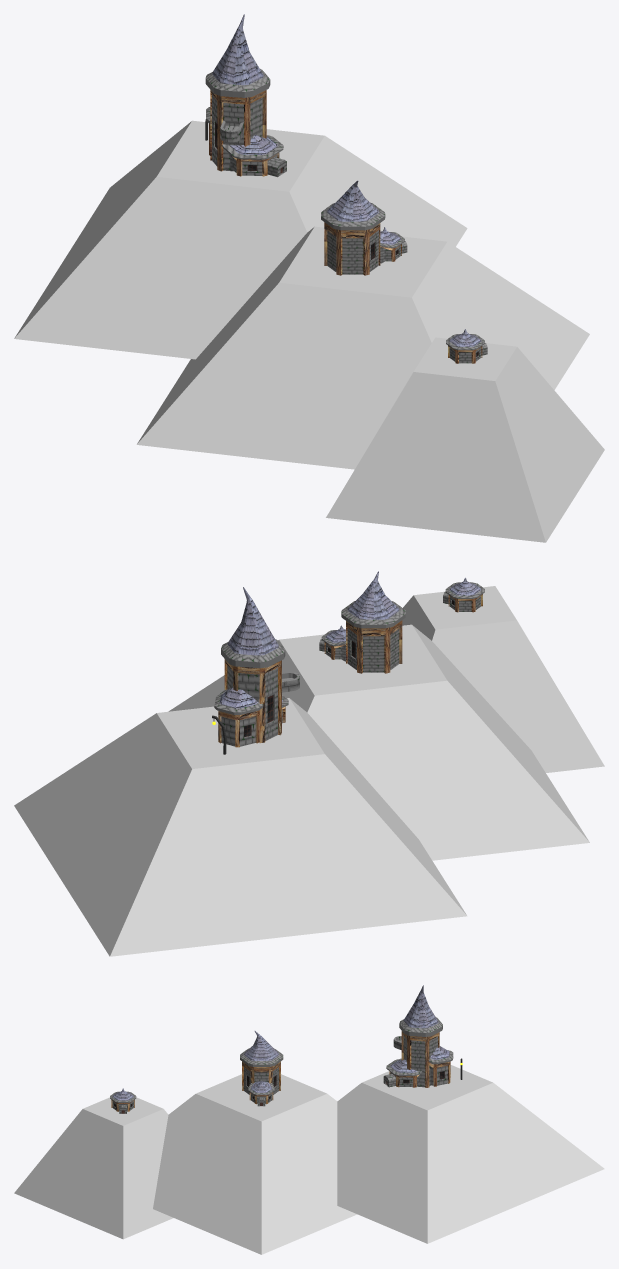
Rendered from moredetail2ndhouse.fbx.
3 views of the same model, one above another, from view 1: azimuth 30°, elevation 25°; view 2: azimuth 150°, elevation 25°; view 3: azimuth 270°, elevation 25° (orthographic). The views are drawn at different scales.
Visible parts, largest first — view 1: Cone.001, Cone.002, Cone, Cylinder.004, Cylinder.002, Cylinder.003, Cylinder, Cylinder.001; view 2: Cone.002, Cone.001, Cone, Cylinder.004, Cylinder.002, Cylinder.005, Cylinder, Cylinder.001; view 3: Cone.002, Cone.001, Cone, Cylinder.004, Cylinder.002, Cylinder.005, Cylinder.003, Cylinder.001, Cylinder.
Boxes of the visible parts, x1,y1,x2,y2 form: Cone.001: [136, 226, 589, 469]; Cone.002: [14, 120, 467, 359]; Cone: [326, 337, 604, 542]; Cylinder.004: [205, 14, 270, 171]; Cylinder.002: [321, 180, 385, 275]; Cylinder.003: [222, 134, 286, 177]; Cylinder: [446, 329, 487, 363]; Cylinder.001: [378, 227, 407, 263]; Cone.002: [14, 698, 467, 956]; Cone.001: [168, 624, 589, 860]; Cone: [402, 586, 604, 772]; Cylinder.004: [221, 587, 299, 743]; Cylinder.002: [341, 571, 405, 673]; Cylinder.005: [214, 687, 263, 747]; Cylinder: [443, 577, 484, 612]; Cylinder.001: [319, 625, 347, 661]; Cone.002: [337, 1065, 604, 1243]; Cone.001: [153, 1074, 356, 1254]; Cone: [14, 1097, 173, 1239]; Cylinder.004: [393, 985, 442, 1087]; Cylinder.002: [240, 1031, 283, 1094]; Cylinder.005: [428, 1046, 453, 1086]; Cylinder.003: [383, 1058, 422, 1087]; Cylinder.001: [248, 1081, 274, 1106]; Cylinder: [110, 1088, 136, 1113].
Bounding box in the file's own units: 13059 × 8460 × 21747.
